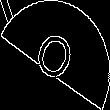O_SW: (30, 22, 80, 88)
